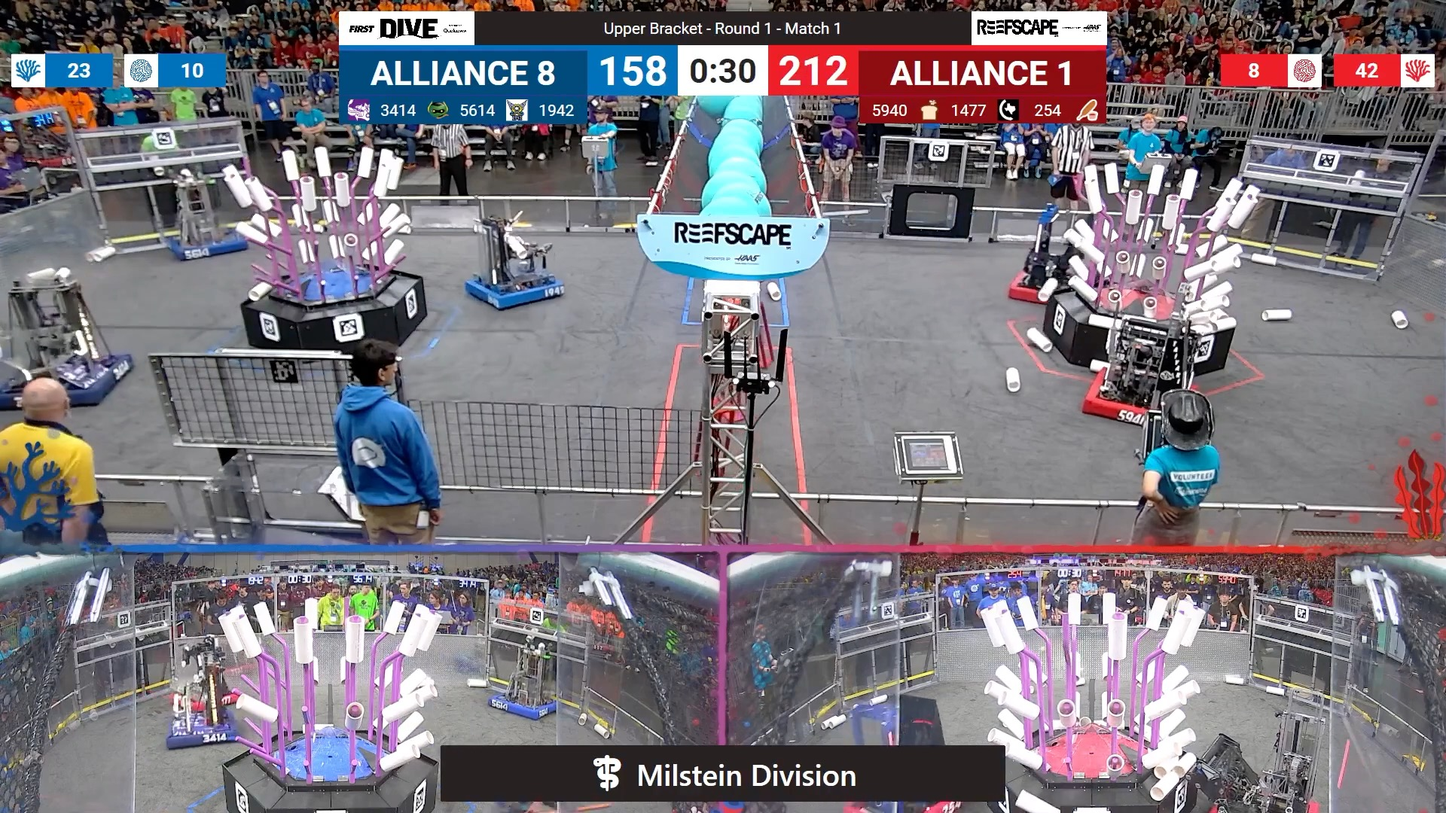bumpers: (5, 349, 148, 412), (1074, 370, 1192, 430), (458, 268, 568, 313), (166, 708, 251, 752), (1192, 789, 1328, 813), (167, 232, 260, 266), (1006, 264, 1076, 307), (483, 692, 564, 725)
